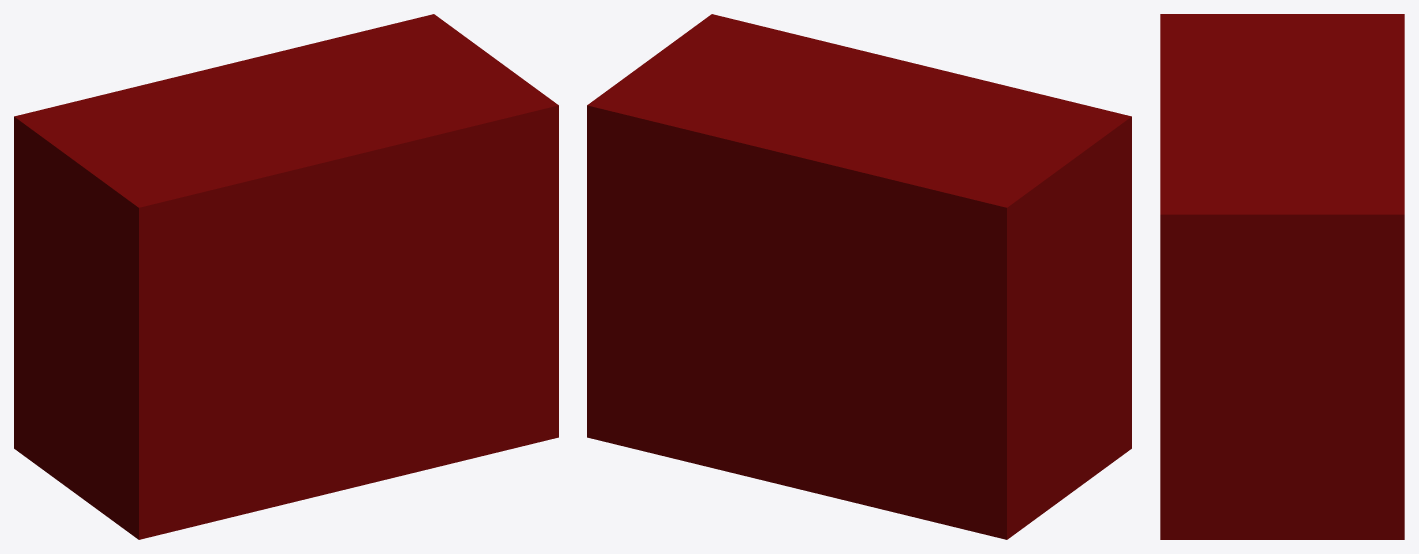
Rendered from dresser.fbx.
The picture shows the model from 3 angles, left to right: view 1: azimuth 30°, elevation 25°; view 2: azimuth 150°, elevation 25°; view 3: azimuth 270°, elevation 25°; orthographic projection. The views are drawn at different scales.
Visible parts, largest first — view 1: dresser_Col; view 2: dresser_Col; view 3: dresser_Col.
Part boxes in pixels (left/top/right/bottom): dresser_Col: left=14, top=14, right=558, bottom=539; dresser_Col: left=587, top=14, right=1131, bottom=539; dresser_Col: left=1160, top=14, right=1404, bottom=539.
Size of the model in its own units: 270 by 205 by 139.
